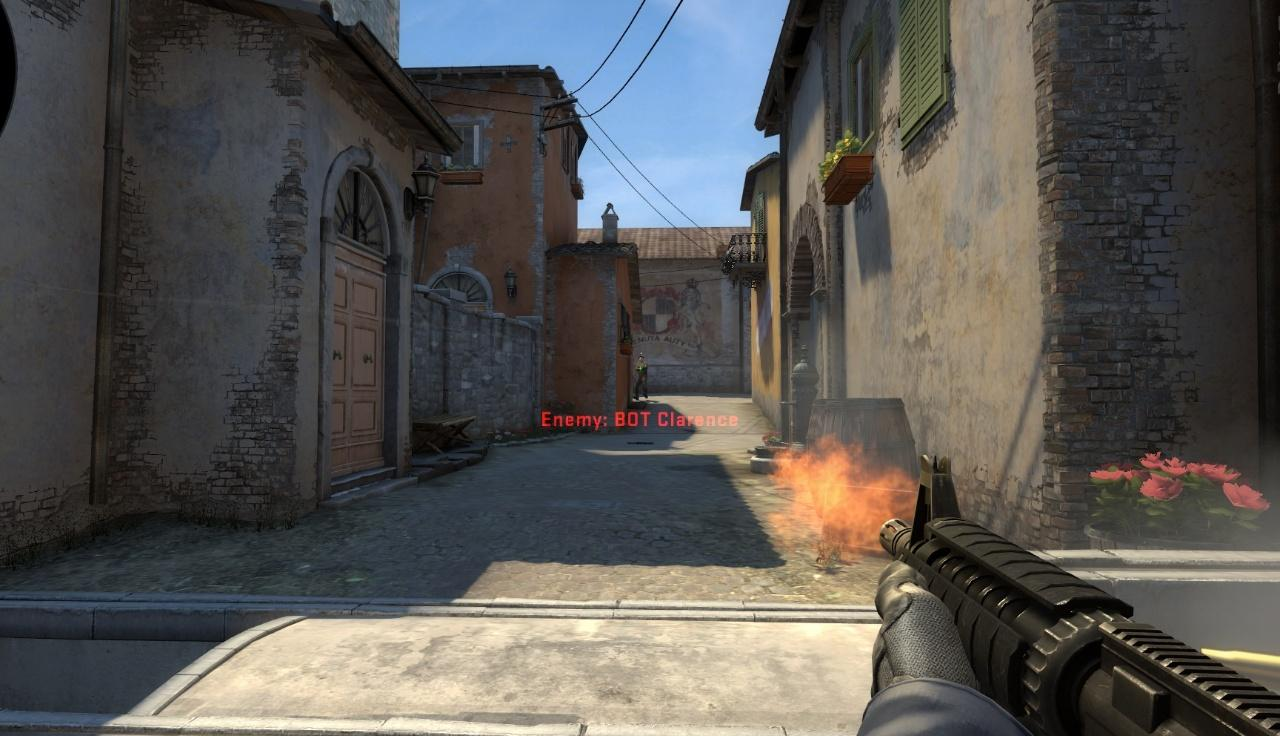rifle: (870, 440, 1280, 736)
tt: (635, 355, 647, 400)
tthead: (638, 356, 643, 362)
